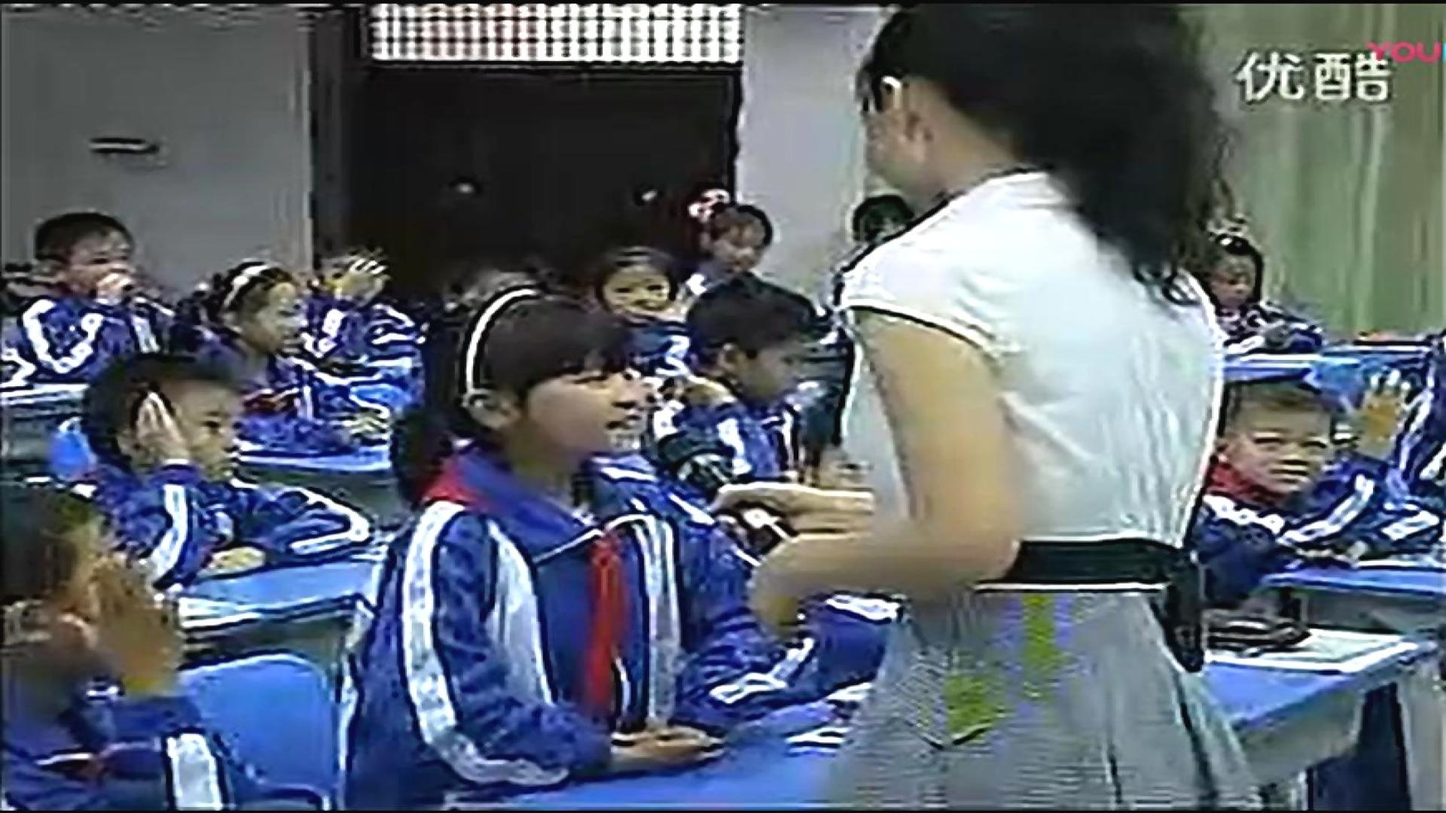Stand Up: (837, 9, 1204, 797)
Wave: (88, 574, 207, 747), (127, 400, 203, 586), (1345, 400, 1407, 535)
